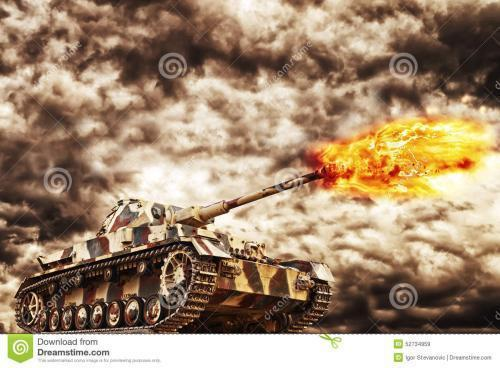fire: (322, 121, 488, 205)
